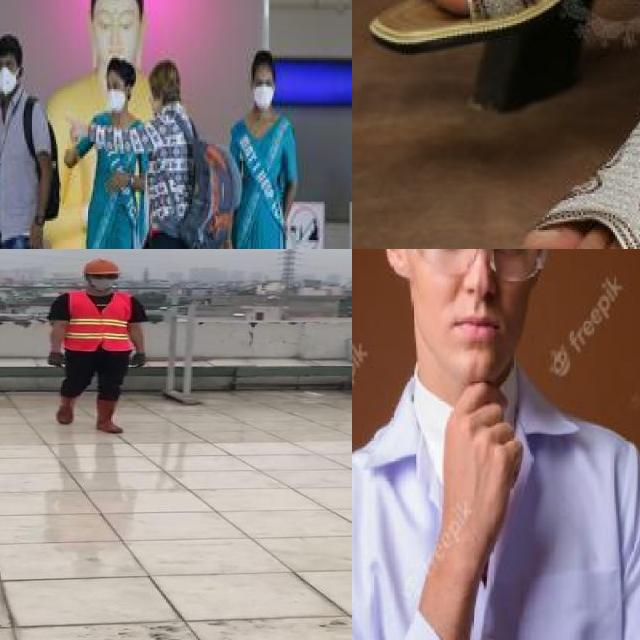No_Ear-Protection: (380, 249, 413, 281)
Sandals: (482, 59, 640, 249)
boots: (95, 397, 127, 434), (52, 394, 76, 424)
face_mask: (253, 72, 275, 108), (0, 55, 19, 93), (107, 77, 125, 111)
face_nomask: (417, 249, 539, 367), (147, 82, 168, 118)
glasses: (393, 249, 546, 284)
hand_noglove: (439, 376, 528, 569)
head_helmet: (80, 256, 121, 275)
head_nohelmet: (147, 53, 184, 101), (106, 51, 128, 82), (0, 34, 21, 63), (251, 51, 275, 72)
person: (352, 249, 640, 640), (46, 259, 158, 438), (214, 48, 305, 249), (132, 41, 206, 249), (0, 26, 64, 249), (72, 55, 139, 249)
vest: (64, 291, 136, 351)
